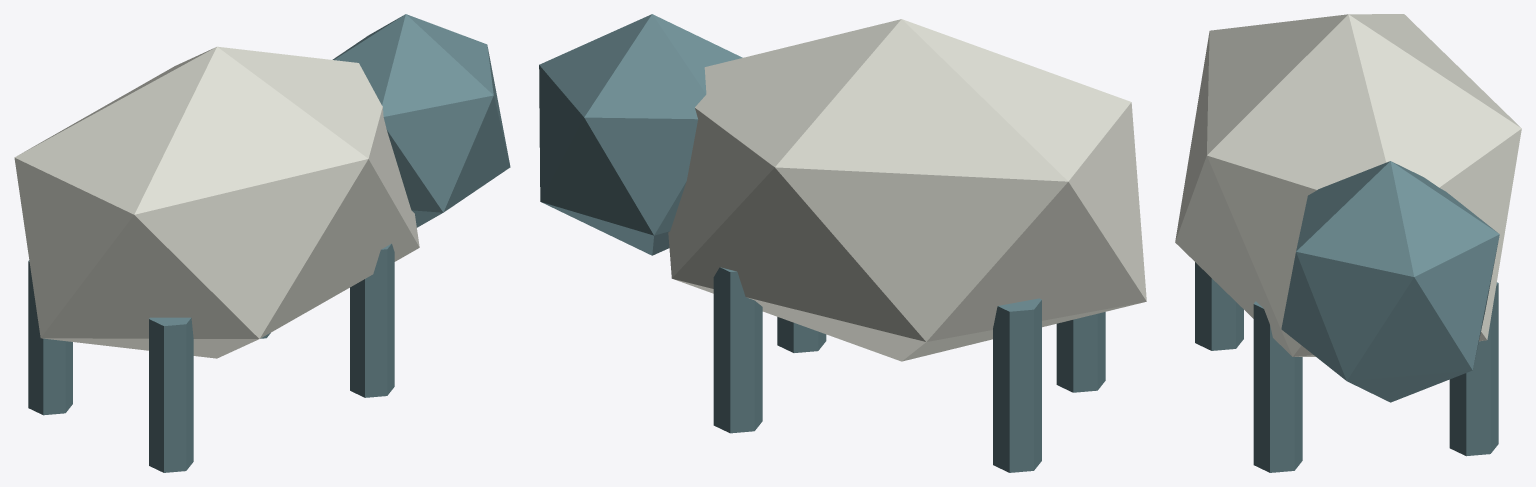
Rendered from sheep_01.glb.
The picture shows the model from 3 angles, left to right: view 1: azimuth 30°, elevation 25°; view 2: azimuth 150°, elevation 25°; view 3: azimuth 270°, elevation 25°; orthographic projection. The views are drawn at different scales.
Parts seen in each view (by area): view 1: Sheep_01_Body.001, Sheep_01_Head.001, Sheep_01_Leg_0.001, Sheep_01_Leg_2.001, Sheep_01_Leg_1.001; view 2: Sheep_01_Body.001, Sheep_01_Head.001, Sheep_01_Leg_1.001, Sheep_01_Leg_3.001, Sheep_01_Leg_0.001, Sheep_01_Leg_2.001; view 3: Sheep_01_Body.001, Sheep_01_Head.001, Sheep_01_Leg_2.001, Sheep_01_Leg_3.001, Sheep_01_Leg_0.001.
Boxes of the visible parts, <box> form: Sheep_01_Body.001: <box>14,46,419,358</box>; Sheep_01_Head.001: <box>332,14,510,227</box>; Sheep_01_Leg_0.001: <box>149,317,193,472</box>; Sheep_01_Leg_2.001: <box>350,243,394,397</box>; Sheep_01_Leg_1.001: <box>28,260,72,415</box>; Sheep_01_Body.001: <box>668,19,1146,361</box>; Sheep_01_Head.001: <box>539,14,742,255</box>; Sheep_01_Leg_1.001: <box>993,298,1041,472</box>; Sheep_01_Leg_3.001: <box>713,267,762,433</box>; Sheep_01_Leg_0.001: <box>1056,312,1105,392</box>; Sheep_01_Leg_2.001: <box>777,317,826,352</box>; Sheep_01_Body.001: <box>1175,14,1521,356</box>; Sheep_01_Head.001: <box>1281,161,1499,402</box>; Sheep_01_Leg_2.001: <box>1253,301,1302,472</box>; Sheep_01_Leg_3.001: <box>1449,282,1498,456</box>; Sheep_01_Leg_0.001: <box>1195,262,1243,350</box>.
Size of the model in its own units: 1.14 by 0.76 by 0.624.
